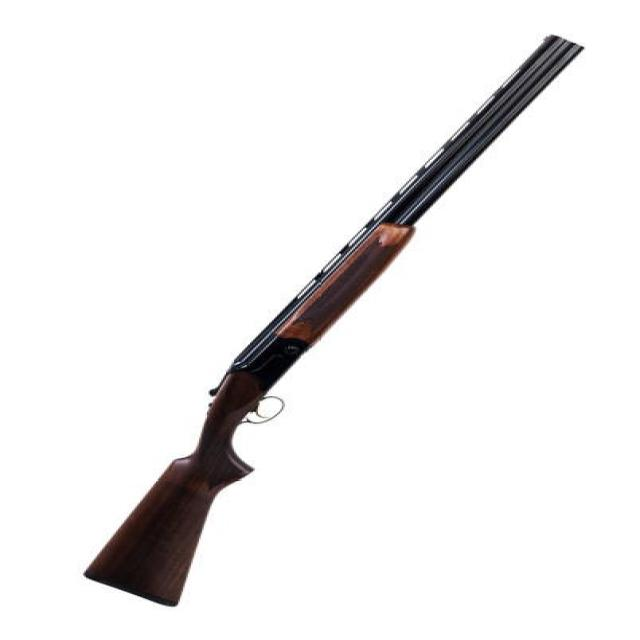rifle: (73, 26, 599, 626)
